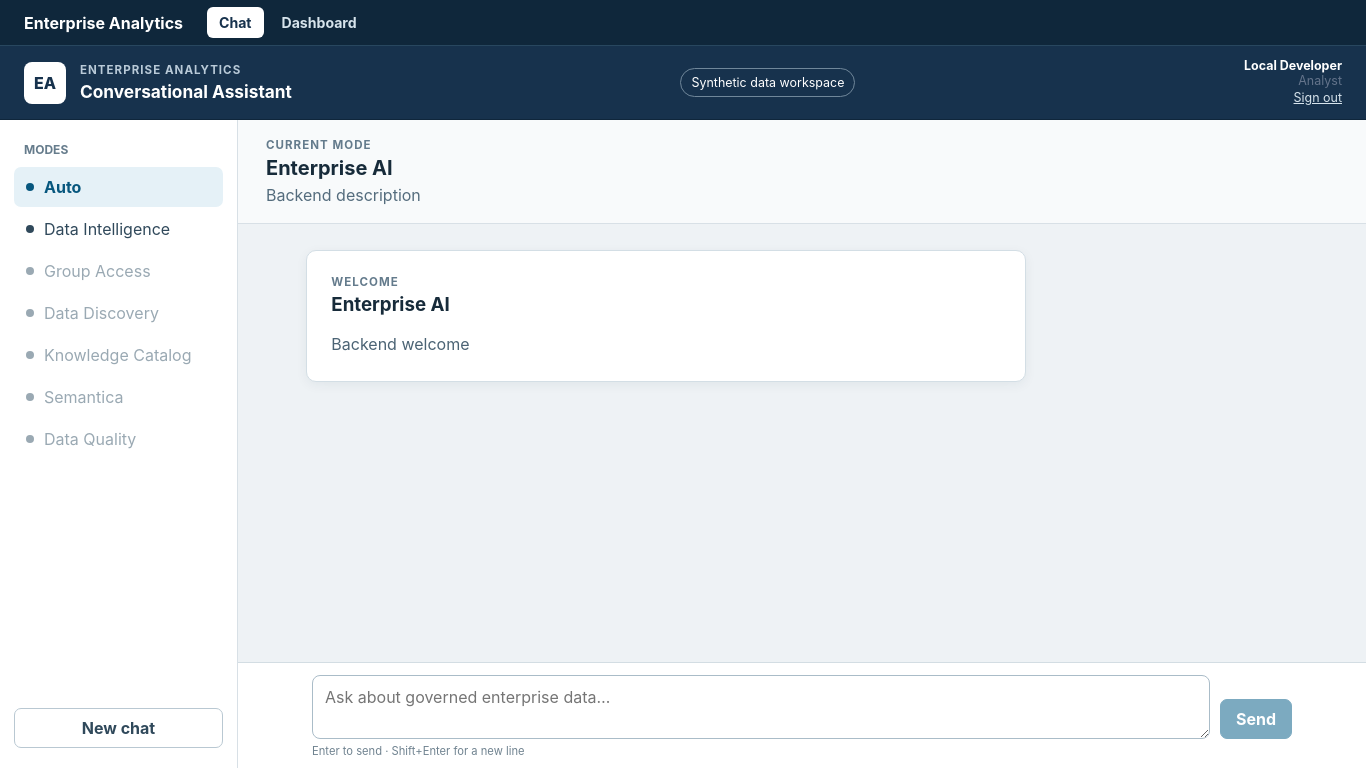
Test: AI Dashboard › Chat and Dashboard navigation preserves the in-tab chat transcript
Expected: the text "Backend welcome" is shown, [331,334,470,354]
Step 1. Type "hello" into the text box named "Message" → {"x": 761, "y": 707}, box [312,675,1210,739]
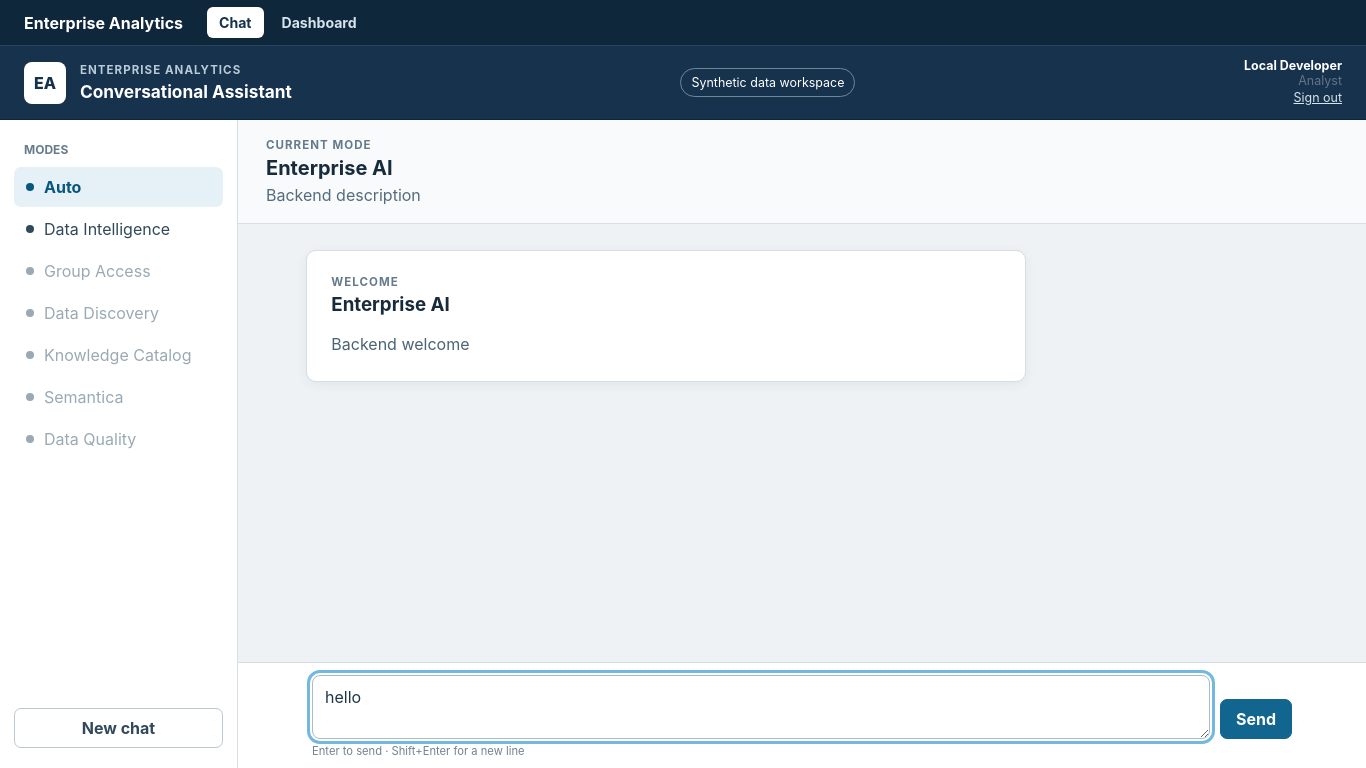
Step 2. Click the button "Send" → {"x": 1256, "y": 719}, box [1220,699,1292,739]
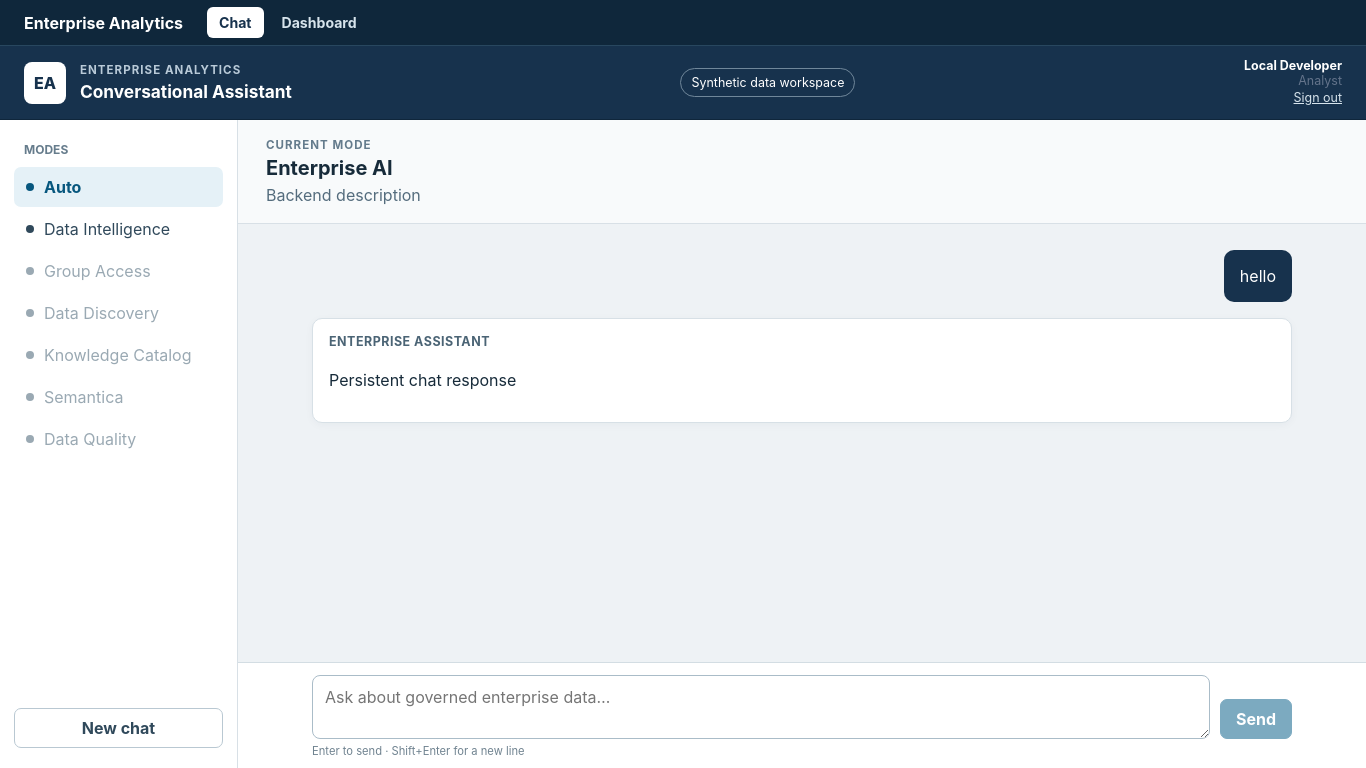
Result: the text "Persistent chat response" is shown at [329,370,516,390]
Step 3. Click the link "Dashboard" → {"x": 319, "y": 22}, box [282,14,357,31]
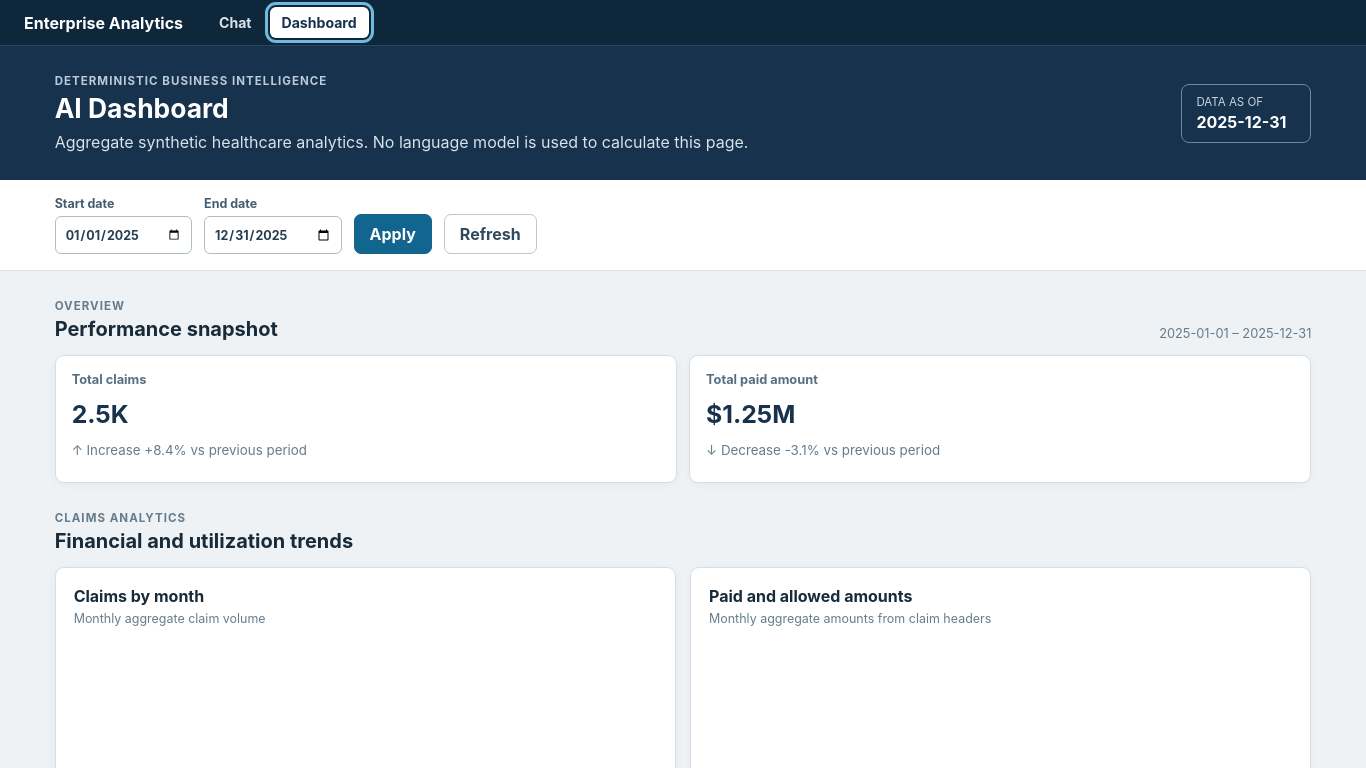
Result: the heading "AI Dashboard" is shown at [55,92,229,124]
Step 4. Click the link "Chat" → {"x": 235, "y": 22}, box [219,14,252,31]
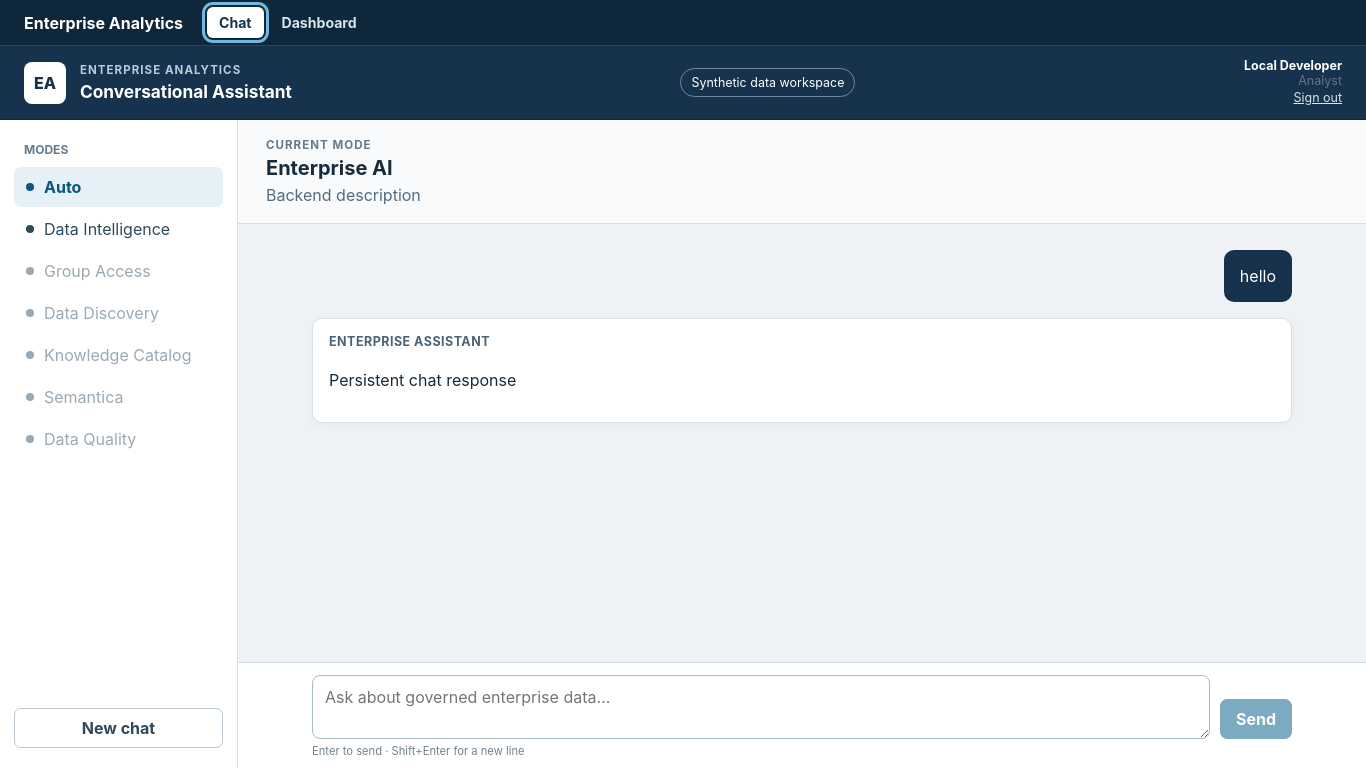
Result: the text "Persistent chat response" is shown at [329,370,516,390]
